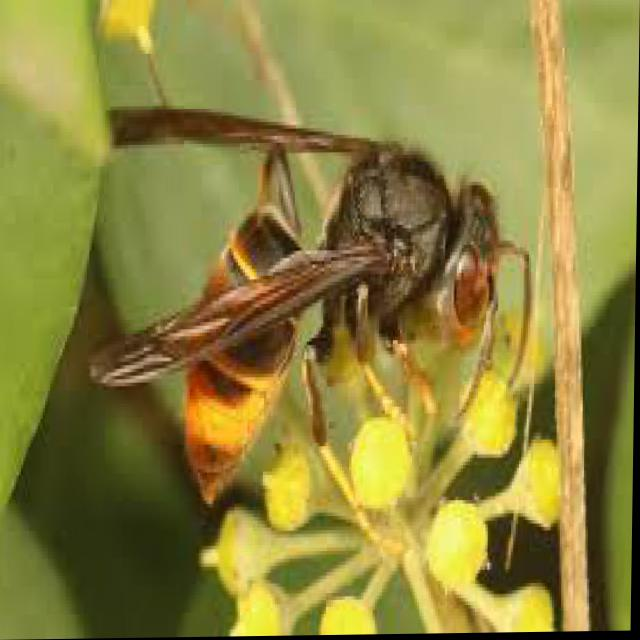Vespa Velutina: (78, 84, 546, 518)
